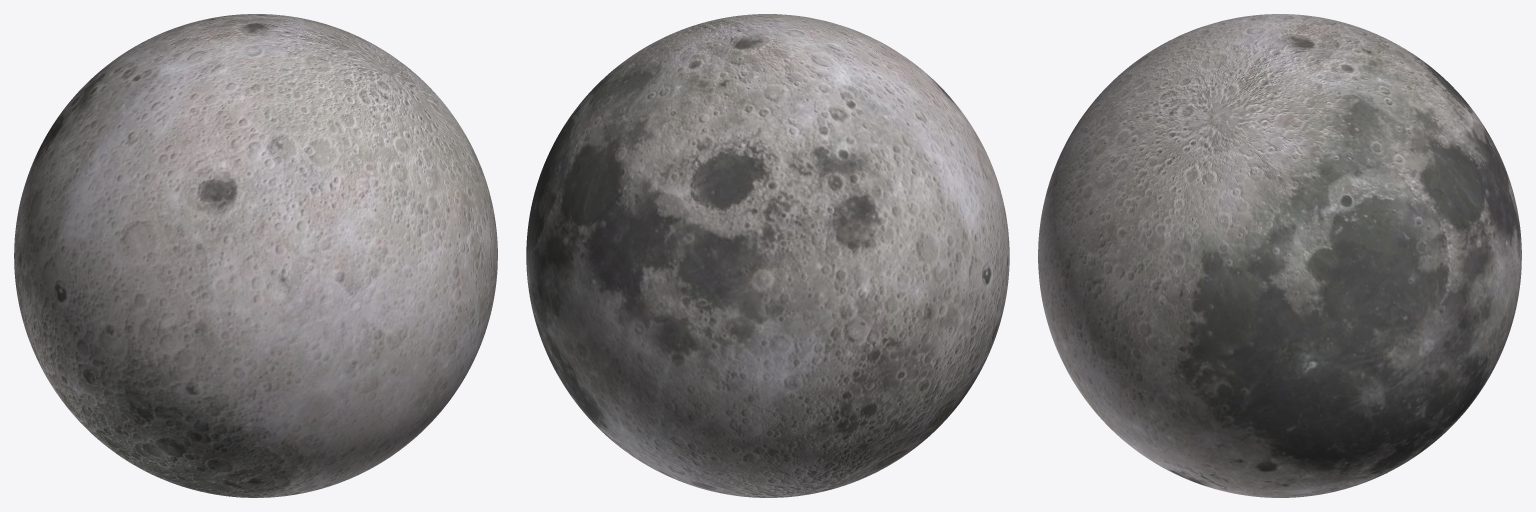
Rendered from moon.glb.
The picture shows the model from 3 angles, left to right: view 1: azimuth 30°, elevation 25°; view 2: azimuth 150°, elevation 25°; view 3: azimuth 270°, elevation 25°; orthographic projection.
Visible parts, largest first — view 1: Sphere; view 2: Sphere; view 3: Sphere.
Boxes of the visible parts, x1,y1,x2,y2 form: Sphere: (14, 14, 497, 497); Sphere: (526, 14, 1009, 497); Sphere: (1038, 14, 1521, 497).
Bounding box in the file's own units: 2 × 2 × 2.
1 material, 1 textured.
